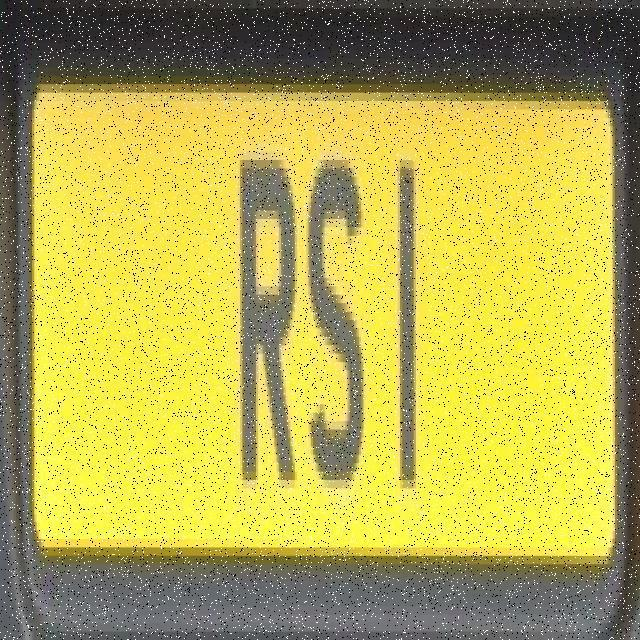LicensePlate: (16, 54, 632, 594)
